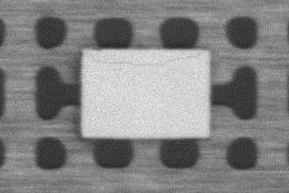DIE_CRACK: (89, 53, 199, 66)
